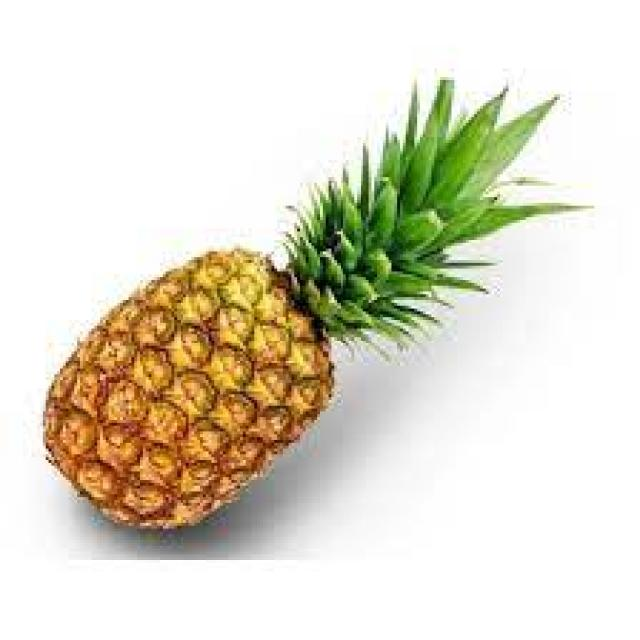pine apple: (42, 213, 349, 558)
